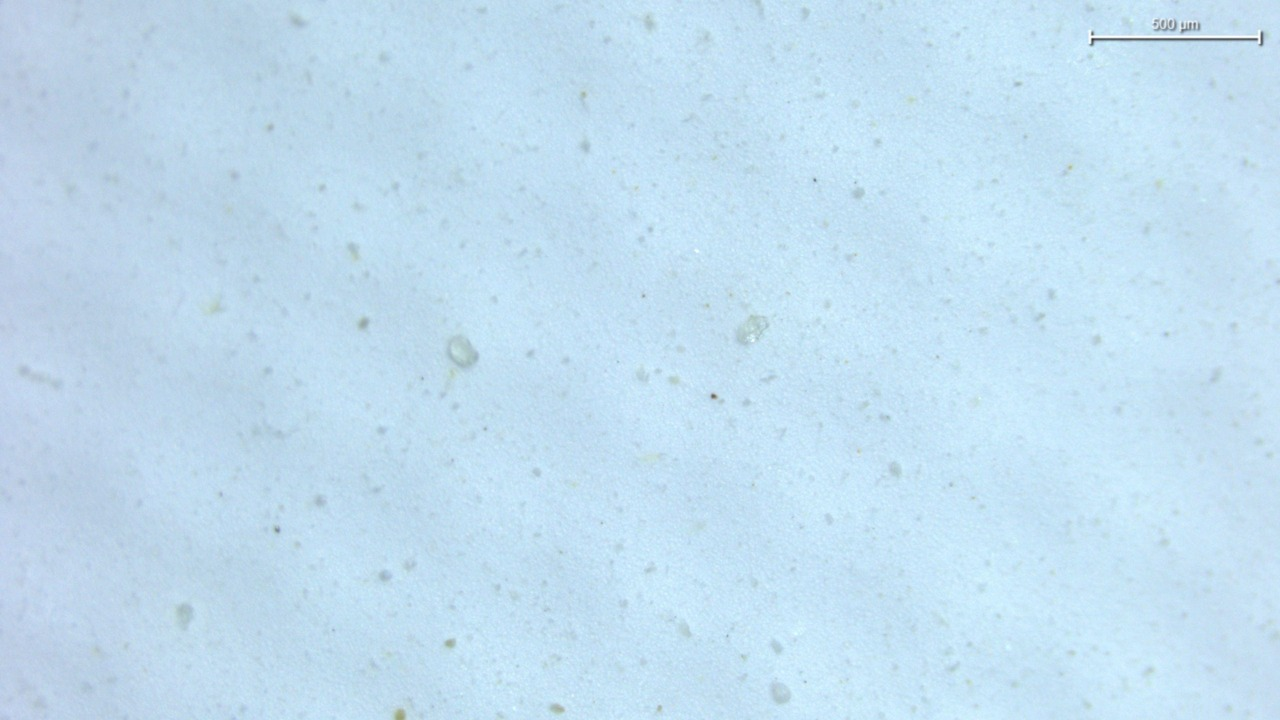microplastic_fragment: (735, 315, 769, 345), (447, 335, 478, 367)
